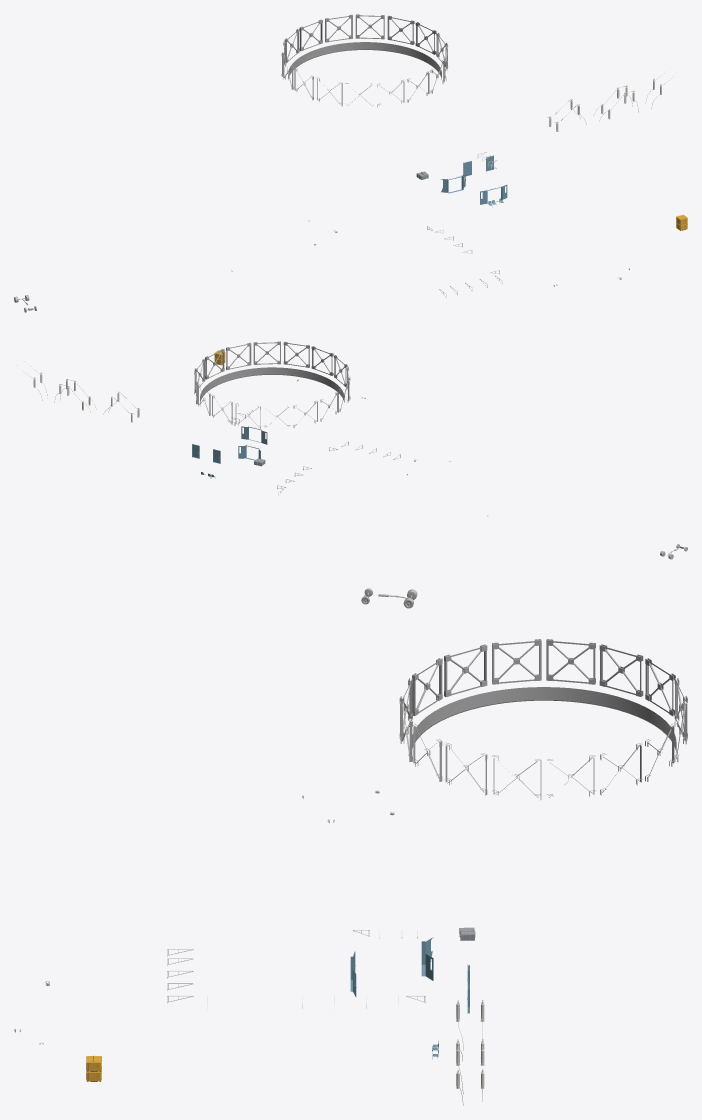
3 views of the same model, one above another, from view 1: azimuth 30°, elevation 25°; view 2: azimuth 150°, elevation 25°; view 3: azimuth 270°, elevation 25° (orthographic). The views are drawn at different scales.
Visible parts, largest first — view 1: n0_lr0_agg_nomerge_web_joist_001_2_fragment6, n0_lr0_agg_merge_metal_door_001_0_fragment2_c1_0, n0_lr0_agg_nomerge_transformer_wires_color_0_fragment1_c2_0; view 2: n0_lr0_agg_nomerge_web_joist_001_2_fragment6, n0_lr0_agg_merge_metal_door_001_0_fragment2_c1_0, n0_lr0_agg_nomerge_transformer_wires_color_0_fragment1_c2_0; view 3: n0_lr0_agg_nomerge_web_joist_001_2_fragment6, n0_lr0_agg_merge_metal_door_001_0_fragment2_c1_0.
Part boxes in pixels (box(x1,y1,x2,y2)): n0_lr0_agg_nomerge_web_joist_001_2_fragment6: box(281, 14, 448, 107); n0_lr0_agg_merge_metal_door_001_0_fragment2_c1_0: box(440, 155, 507, 204); n0_lr0_agg_nomerge_transformer_wires_color_0_fragment1_c2_0: box(547, 72, 673, 131); n0_lr0_agg_nomerge_web_joist_001_2_fragment6: box(194, 341, 350, 428); n0_lr0_agg_merge_metal_door_001_0_fragment2_c1_0: box(192, 426, 267, 463); n0_lr0_agg_nomerge_transformer_wires_color_0_fragment1_c2_0: box(24, 361, 140, 422); n0_lr0_agg_nomerge_web_joist_001_2_fragment6: box(399, 639, 687, 800); n0_lr0_agg_merge_metal_door_001_0_fragment2_c1_0: box(350, 937, 469, 1013).
Bounding box in the file's own units: 5902 × 1340 × 2922.
